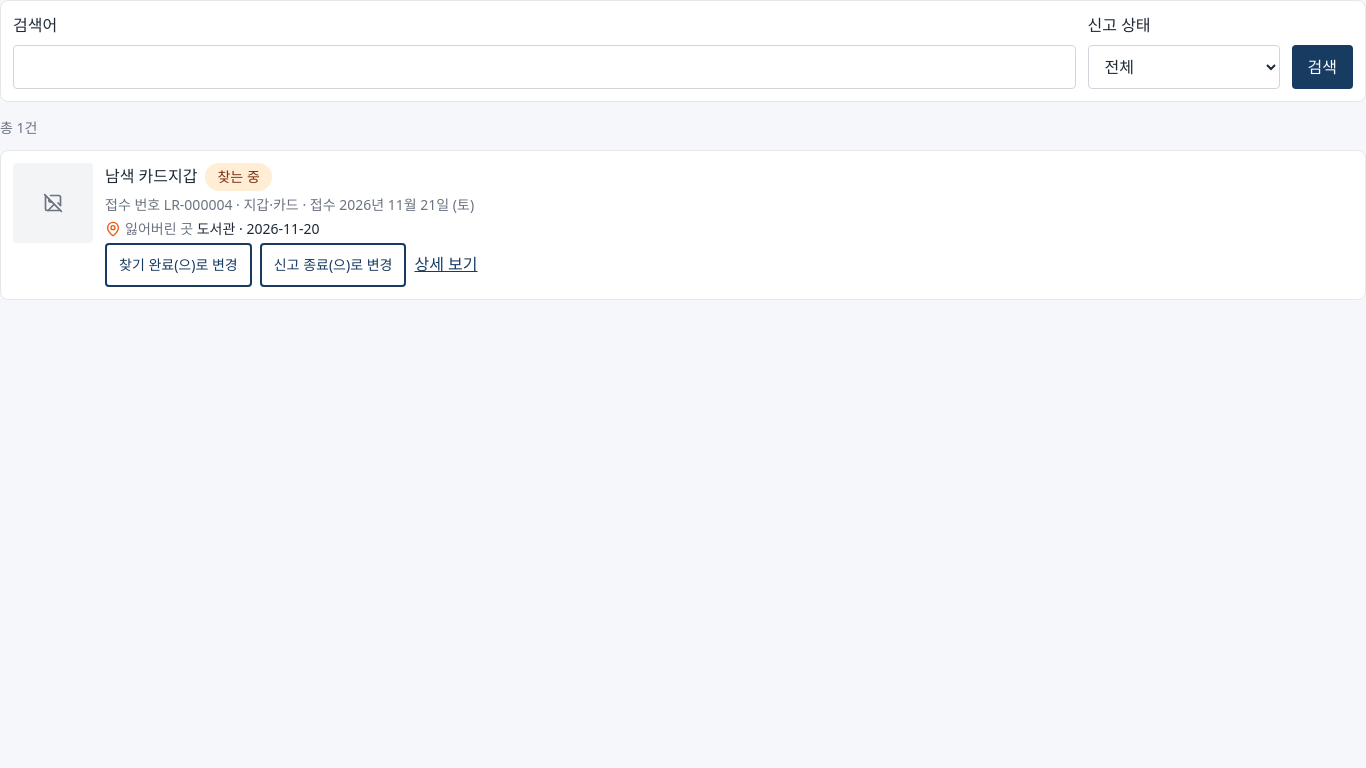
Test: AdminLostReports › 서버가 409를 주면 이유를 보여준다
Click the button "찾기 완료(으)로 변경".
click(178, 265)  # box [105,243,252,287]
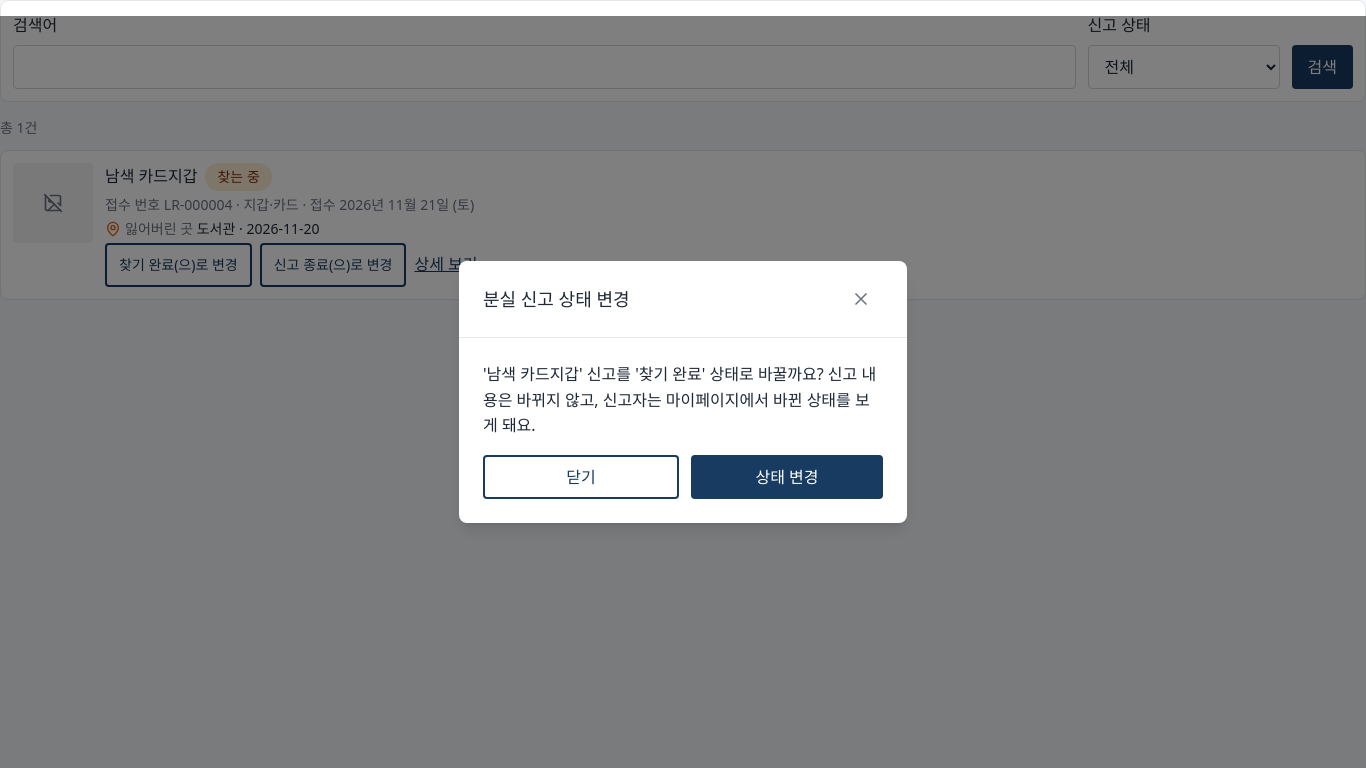
Click the button "상태 변경".
click(787, 477)  # box [691,455,883,499]
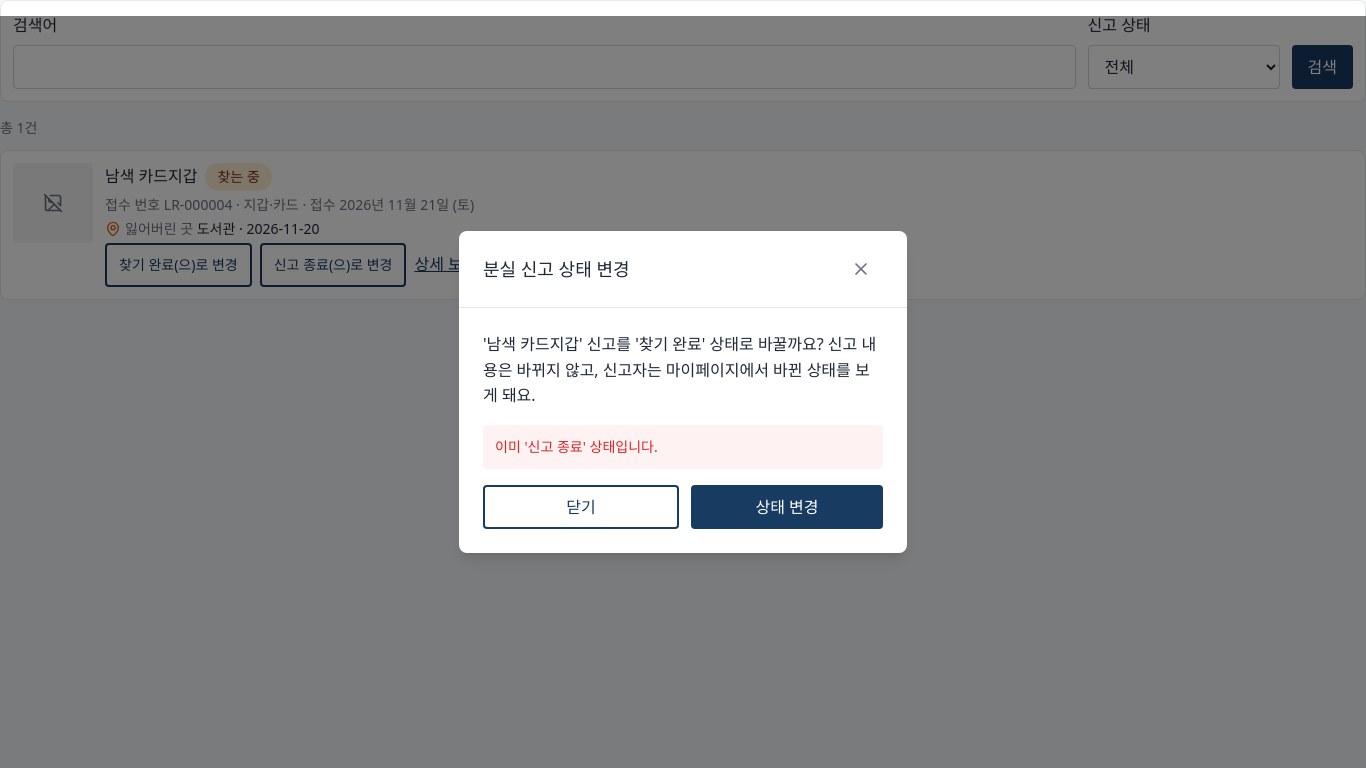
Now the message reads "이미 '신고 종료' 상태입니다.", box [495,437,658,456]
